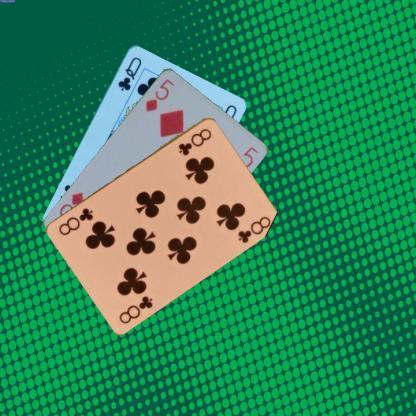5d: (142, 76, 177, 113)
8c: (116, 292, 154, 325), (175, 126, 213, 156)
Qc: (115, 54, 143, 92)
